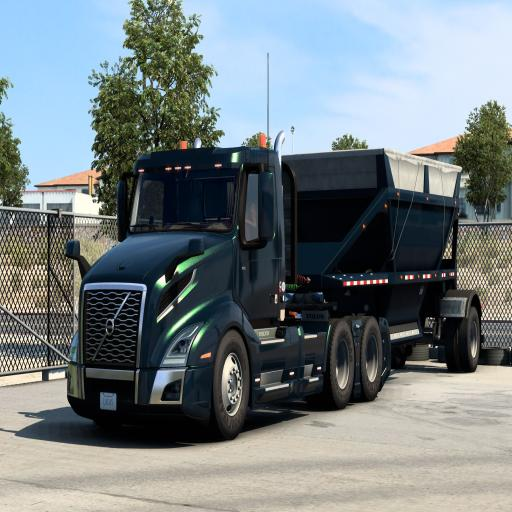truck: (66, 147, 482, 439)
